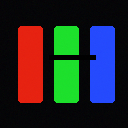3 line_h: (49, 55, 95, 59)
